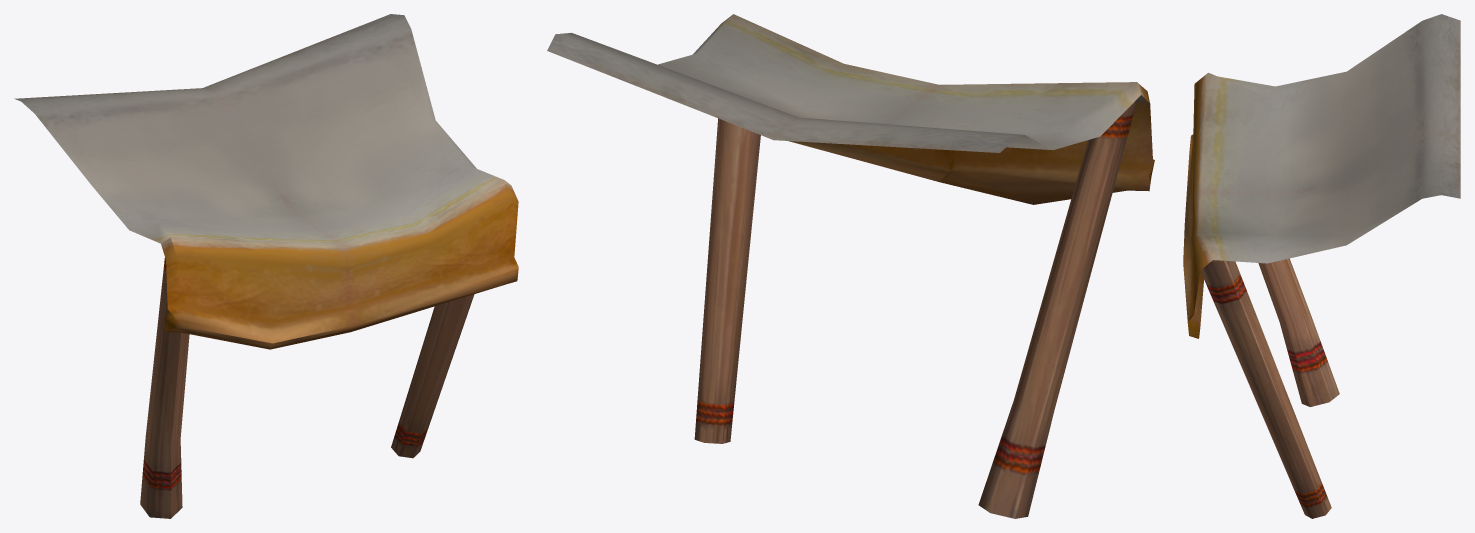
The model's file is daliang_field_b_s01d.fbx.
The picture shows the model from 3 angles, left to right: view 1: azimuth 30°, elevation 25°; view 2: azimuth 150°, elevation 25°; view 3: azimuth 270°, elevation 25°; orthographic projection. The views are drawn at different scales.
Parts seen in each view (by area): view 1: daliang_field_b_s01d; view 2: daliang_field_b_s01d; view 3: daliang_field_b_s01d.
Boxes of the visible parts, box(x1,y1,x2,y2) form: daliang_field_b_s01d: box(14, 14, 518, 518); daliang_field_b_s01d: box(547, 14, 1154, 518); daliang_field_b_s01d: box(1183, 14, 1460, 518).
Size of the model in its own units: 425 by 404 by 286.
